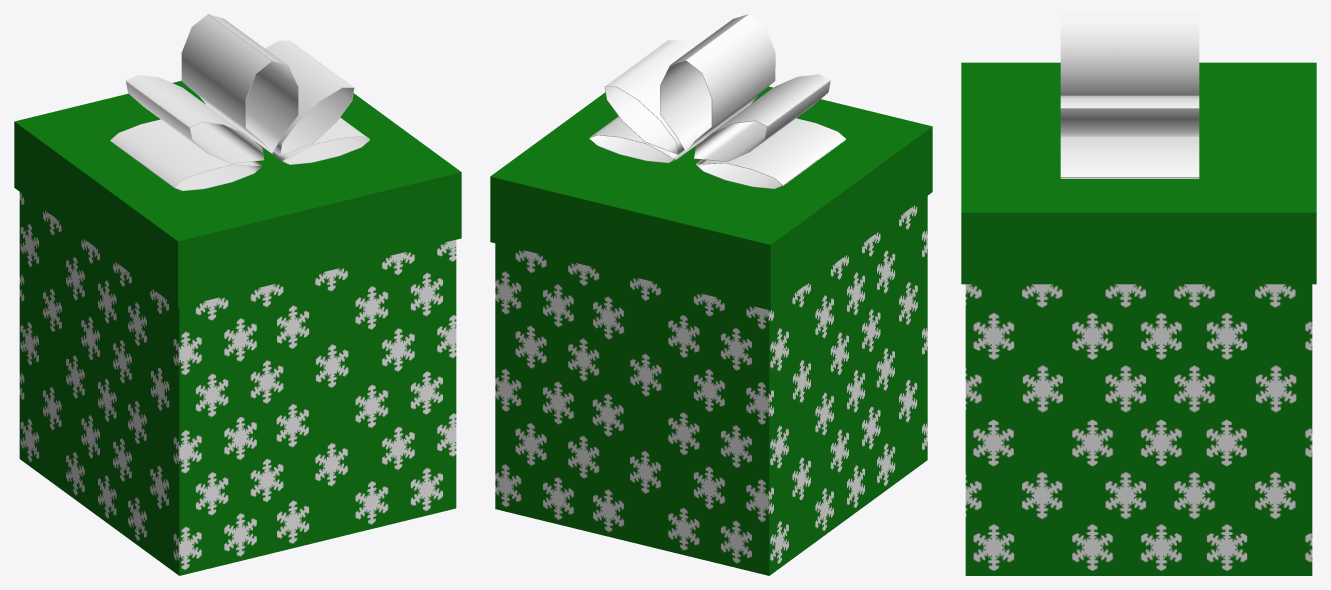
Rendered from present_snowflake_ver2.fbx.
The picture shows the model from 3 angles, left to right: view 1: azimuth 30°, elevation 25°; view 2: azimuth 150°, elevation 25°; view 3: azimuth 270°, elevation 25°; orthographic projection. The views are drawn at different scales.
Parts seen in each view (by area): view 1: Box, Top; view 2: Box, Top; view 3: Box, Top.
Boxes of the visible parts, bbox=[...] form: Box: bbox=[19, 192, 456, 575]; Top: bbox=[14, 14, 461, 307]; Box: bbox=[495, 196, 927, 575]; Top: bbox=[490, 14, 932, 310]; Box: bbox=[965, 284, 1312, 575]; Top: bbox=[961, 14, 1316, 284].
Size of the model in its own units: 10.24 by 15.52 by 10.24.
